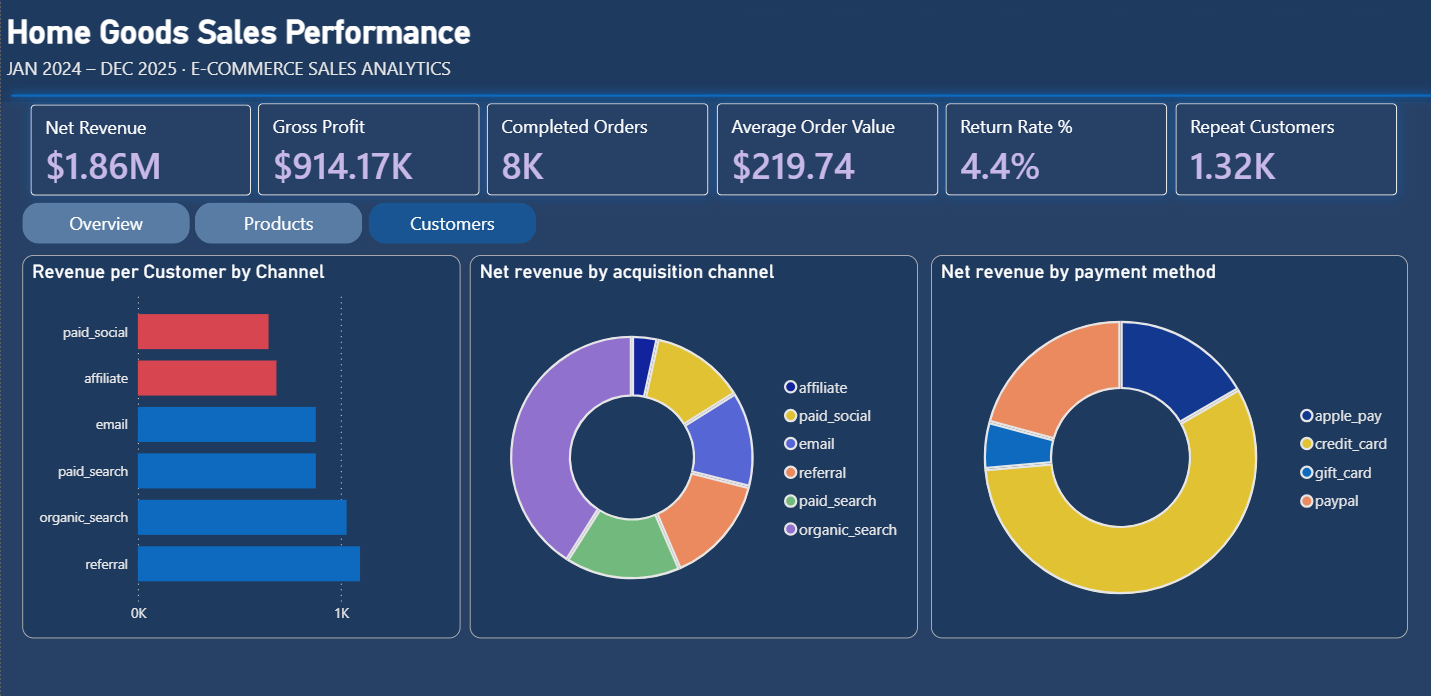

What the dashboard file says about the page in this screenshot:
{"tool":"powerbi","page":{"name":"Customers","canvas":[1280,720],"ordinal":2},"visuals":[{"type":"shape","box":[0,0,1279.7,90.5],"z":0},{"type":"textbox","title":"Home Goods Sales Performance","box":[0,10.8,1279.7,60.8],"z":1000},{"type":"shape","box":[1.1,10,1278.9,150],"z":2000},{"type":"cardVisual","fields":{"Data":["ecommerce_analytics order_items.Net Revenue"]},"box":[2.4,68.5,244.6,129.6],"z":3000},{"type":"cardVisual","fields":{"Data":["ecommerce_analytics order_items.Gross Profit"]},"box":[204,68,245,130],"z":4000},{"type":"cardVisual","fields":{"Data":["ecommerce_analytics order_items.Completed Orders"]},"box":[408,68,245,130],"z":5000},{"type":"cardVisual","fields":{"Data":["ecommerce_analytics order_items.Average Order Value"]},"box":[612,68,245,130],"z":6000},{"type":"cardVisual","fields":{"Data":["ecommerce_analytics order_items.Return Rate %"]},"box":[816,68,245,130],"z":7000},{"type":"cardVisual","fields":{"Data":["ecommerce_analytics order_items.Repeat Customers"]},"box":[1020,68,245,130],"z":8000},{"type":"clusteredBarChart","title":"Revenue per Customer by Channel","fields":{"Y":["ecommerce_analytics customers.Revenue per Customer"],"Category":["ecommerce_analytics vw_channel_performance (2).acquisition_channel"]},"box":[18.4,226.3,389.5,340.8],"z":10000},{"type":"donutChart","title":"Net revenue by acquisition channel","fields":{"Category":["ecommerce_analytics vw_channel_performance (2).acquisition_channel"],"Y":["Sum(ecommerce_analytics vw_channel_performance (2).known_net_revenue)"]},"box":[417,226.2,398.6,341.2],"z":11000},{"type":"donutChart","title":"Net revenue by payment method","fields":{"Category":["ecommerce_analytics orders.payment_method"],"Y":["ecommerce_analytics order_items.Net Revenue"]},"box":[826.6,226.2,424.3,341.2],"z":12000},{"type":"actionButton","box":[18.3,179.8,149.2,36.7],"z":12001},{"type":"actionButton","box":[172.4,179.8,149.2,36.7],"z":12002},{"type":"actionButton","box":[326.5,179.8,149.2,36.7],"z":12003}]}

Visuals, with their boxes on the page's 1280x720 design canvas (x1, y1, x2, y2). These are canvas units, not pixel positions in the 1431x696 screenshot, which may show the page scaled, cropped or inside an application window:
shape: left=0, top=0, right=1280, bottom=90
"Home Goods Sales Performance" textbox: left=0, top=11, right=1280, bottom=72
shape: left=1, top=10, right=1280, bottom=160
cardVisual - ecommerce_analytics order_items.Net Revenue: left=2, top=68, right=247, bottom=198
cardVisual - ecommerce_analytics order_items.Gross Profit: left=204, top=68, right=449, bottom=198
cardVisual - ecommerce_analytics order_items.Completed Orders: left=408, top=68, right=653, bottom=198
cardVisual - ecommerce_analytics order_items.Average Order Value: left=612, top=68, right=857, bottom=198
cardVisual - ecommerce_analytics order_items.Return Rate %: left=816, top=68, right=1061, bottom=198
cardVisual - ecommerce_analytics order_items.Repeat Customers: left=1020, top=68, right=1265, bottom=198
"Revenue per Customer by Channel" clusteredBarChart: left=18, top=226, right=408, bottom=567
"Net revenue by acquisition channel" donutChart: left=417, top=226, right=816, bottom=567
"Net revenue by payment method" donutChart: left=827, top=226, right=1251, bottom=567
actionButton: left=18, top=180, right=168, bottom=216
actionButton: left=172, top=180, right=322, bottom=216
actionButton: left=326, top=180, right=476, bottom=216
